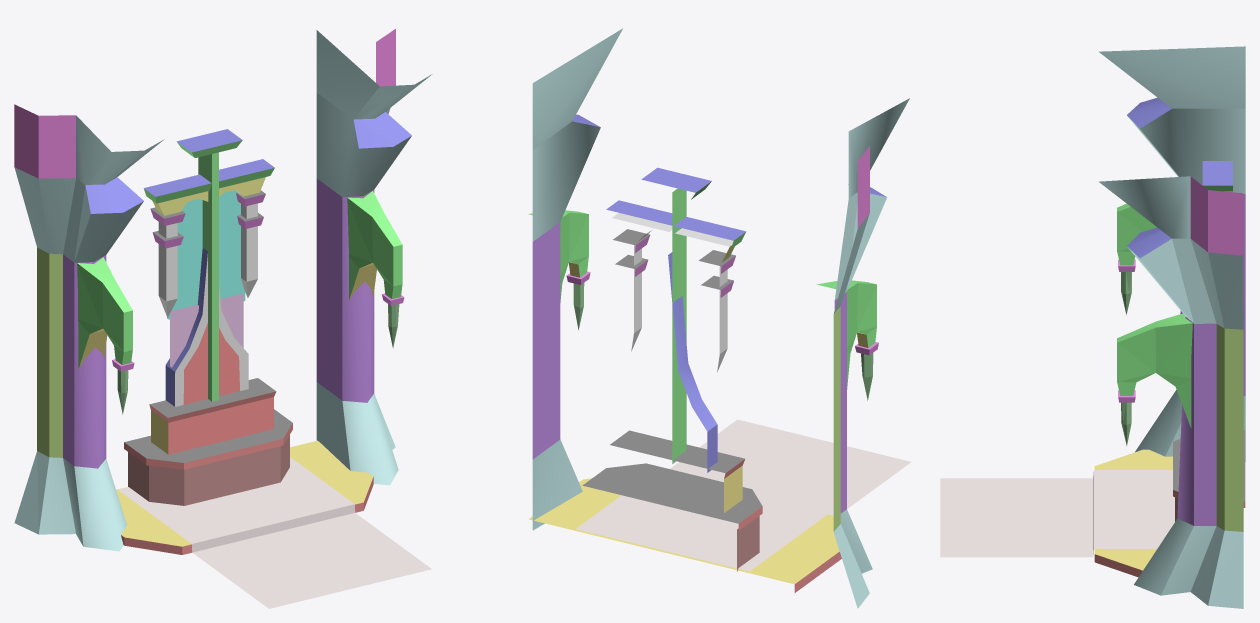
The model's file is interior_B_delf_store_26.gltf.
The picture shows the model from 3 angles, left to right: view 1: azimuth 30°, elevation 25°; view 2: azimuth 150°, elevation 25°; view 3: azimuth 270°, elevation 25°; orthographic projection. The views are drawn at different scales.
Parts seen in each view (by area): view 1: interior_B_delf_store_26; view 2: interior_B_delf_store_26; view 3: interior_B_delf_store_26.
Boxes of the visible parts, x1,y1,x2,y2 form: interior_B_delf_store_26: (14, 29, 432, 608); interior_B_delf_store_26: (528, 28, 910, 608); interior_B_delf_store_26: (940, 46, 1245, 608).
Size of the model in its own units: 2.23 by 2.41 by 1.6.
